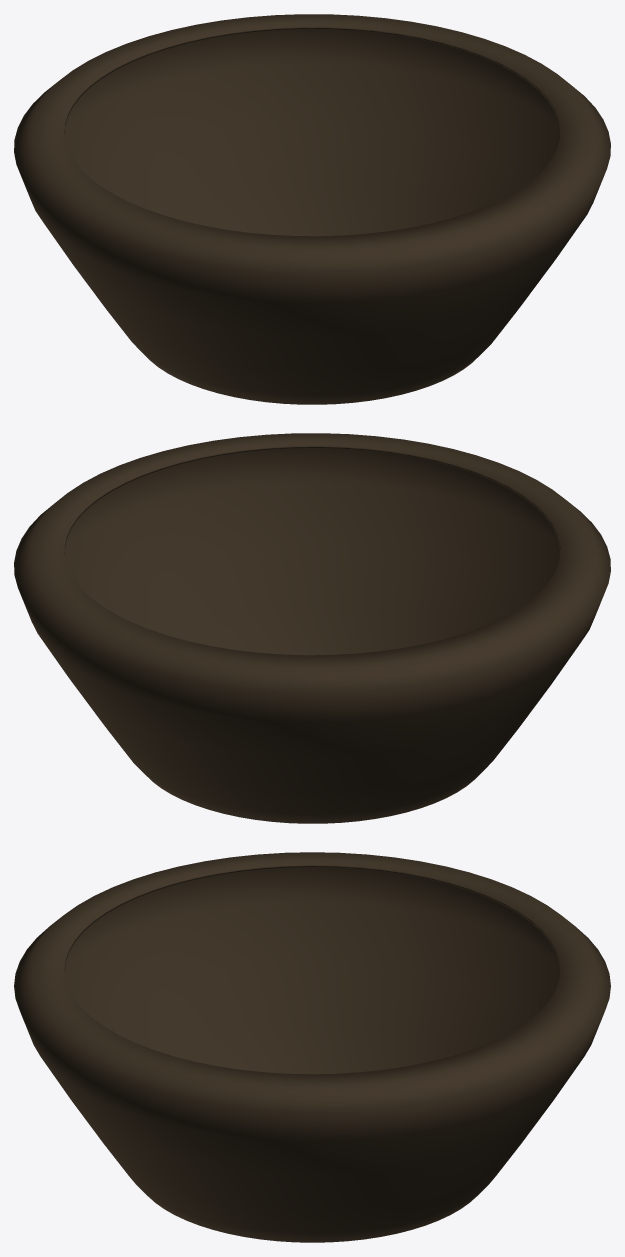
The model's file is bowl2.fbx.
3 renders of one model, top to bottom at view 1: azimuth 30°, elevation 25°; view 2: azimuth 150°, elevation 25°; view 3: azimuth 270°, elevation 25°, orthographic.
Visible parts, largest first — view 1: Circle.002; view 2: Circle.002; view 3: Circle.002.
Part boxes in pixels (x1,y1,x2,y2): Circle.002: (14,14,610,404); Circle.002: (14,433,610,823); Circle.002: (14,852,610,1242).
Bounding box in the file's own units: 22.12 × 8.18 × 22.12.
